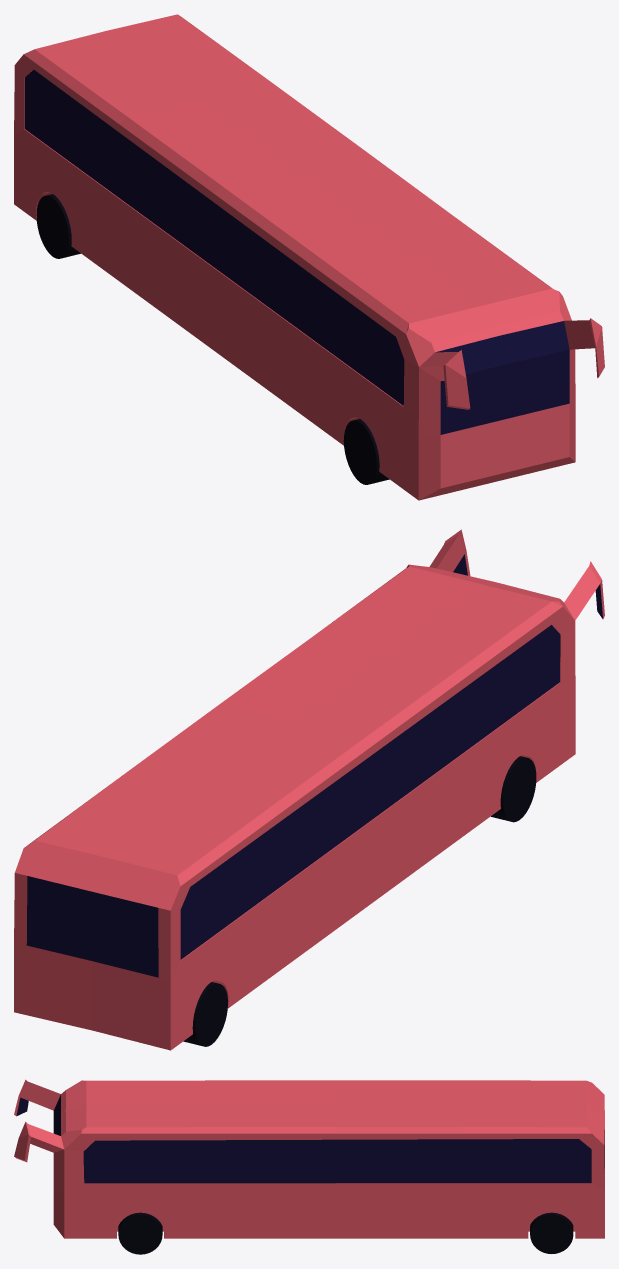
Rendered from bus.fbx.
3 views of the same model, one above another, from view 1: azimuth 30°, elevation 25°; view 2: azimuth 150°, elevation 25°; view 3: azimuth 270°, elevation 25° (orthographic). The views are drawn at different scales.
Parts seen in each view (by area): view 1: Body, BackLeftWheel; view 2: Body, BackLeftWheel; view 3: Body, BackLeftWheel.
Boxes of the visible parts, x1,y1,x2,y2 form: Body: (14, 14, 604, 500); BackLeftWheel: (36, 194, 389, 484); Body: (14, 529, 604, 1050); BackLeftWheel: (183, 756, 536, 1046); Body: (14, 1079, 604, 1238); BackLeftWheel: (118, 1212, 573, 1254).
Bounding box in the file's own units: 202 × 235 × 977.
